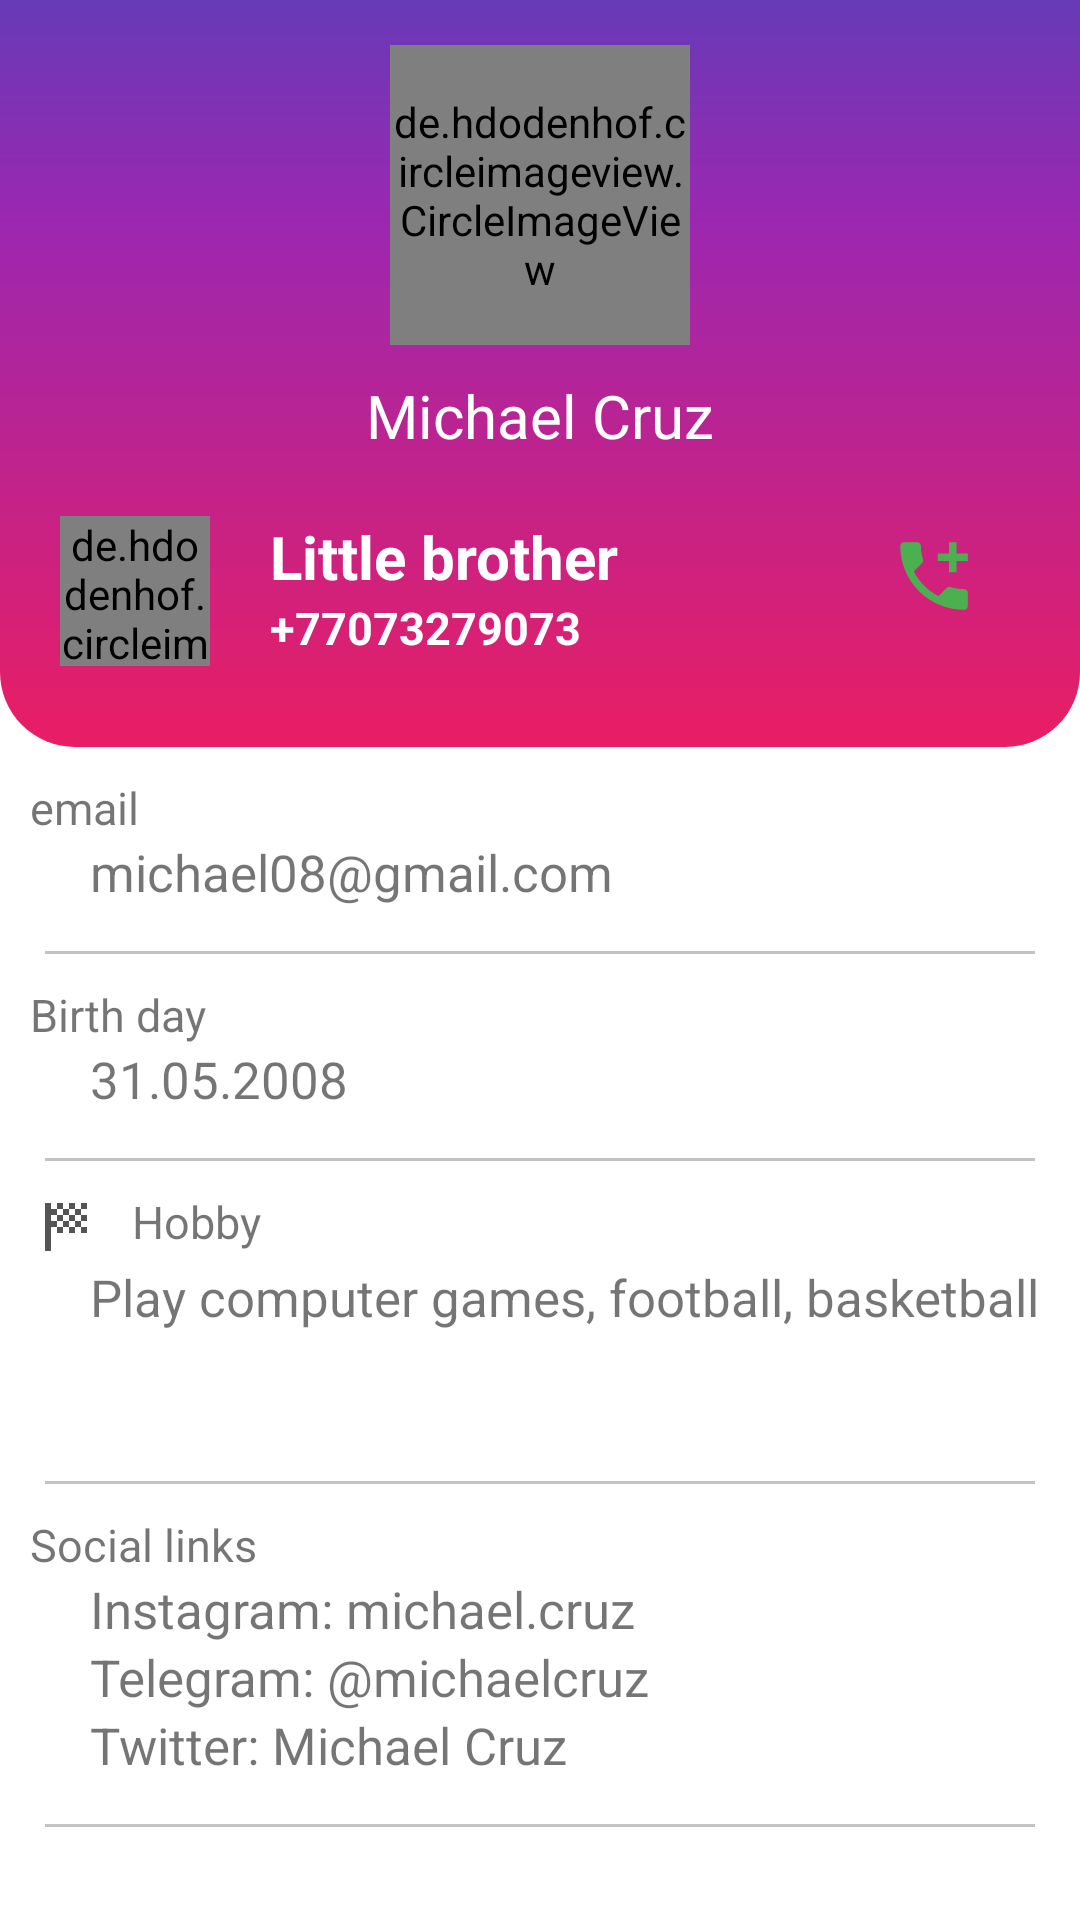

Screen size 1080×1920. Icon name, then its box in pixels as (x1, y1, x2, y2):
call: (900, 542, 968, 610)
